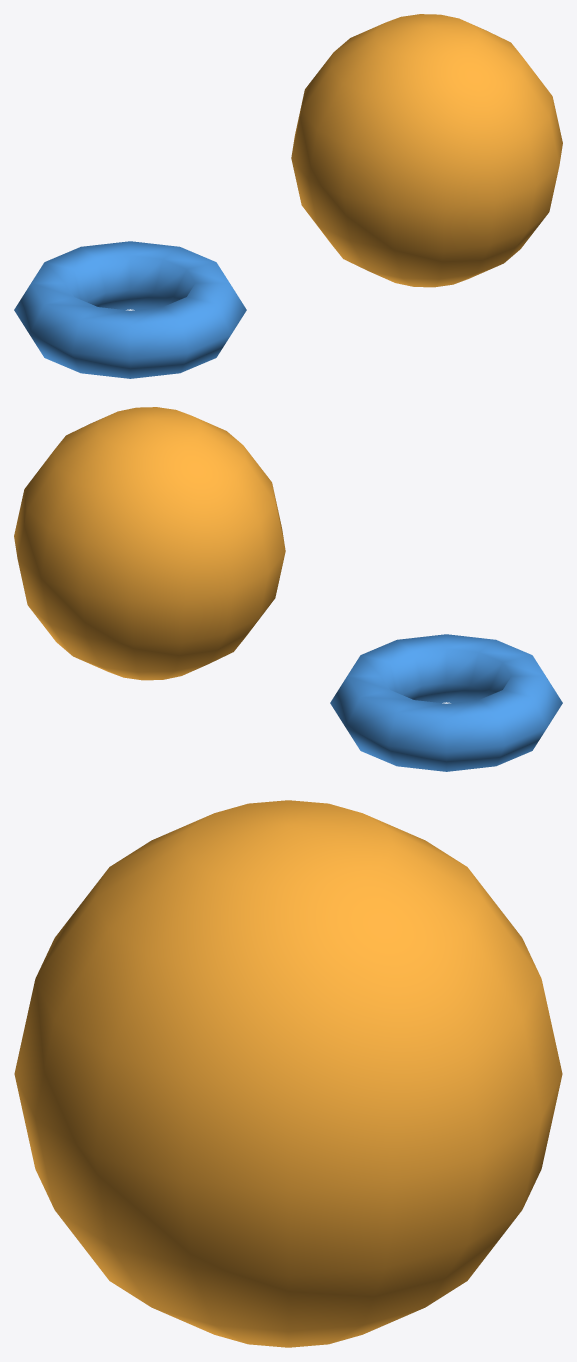
3 views of the same model, one above another, from view 1: azimuth 30°, elevation 25°; view 2: azimuth 150°, elevation 25°; view 3: azimuth 270°, elevation 25° (orthographic). The views are drawn at different scales.
Parts seen in each view (by area): view 1: SphereNode, TorusNode; view 2: SphereNode, TorusNode; view 3: SphereNode.
Boxes of the visible parts, bbox=[...] form: SphereNode: bbox=[291, 14, 562, 287]; TorusNode: bbox=[14, 241, 246, 378]; SphereNode: bbox=[14, 407, 285, 680]; TorusNode: bbox=[330, 634, 562, 771]; SphereNode: bbox=[14, 800, 562, 1347].
Size of what is drawn, in the model's own units: 4.35 by 2 by 2.
